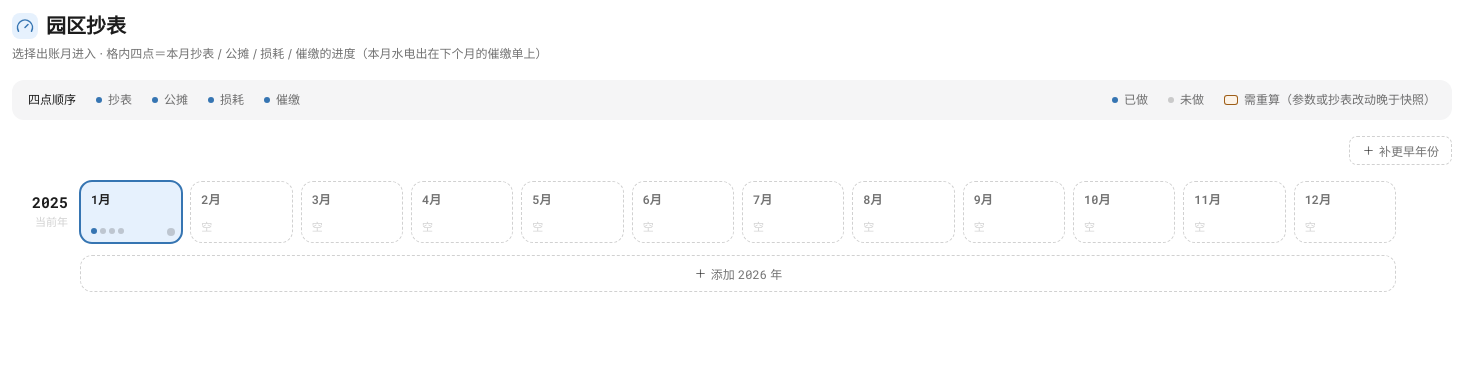
出账月矩阵 › 手工年记在本机，键按屏分组 —— 五屏共用同一份，加一次五屏都看得见
Click the button with class "bmm-addy". click: (1400, 150)
box: top-left (1349, 136), bottom-right (1452, 165)
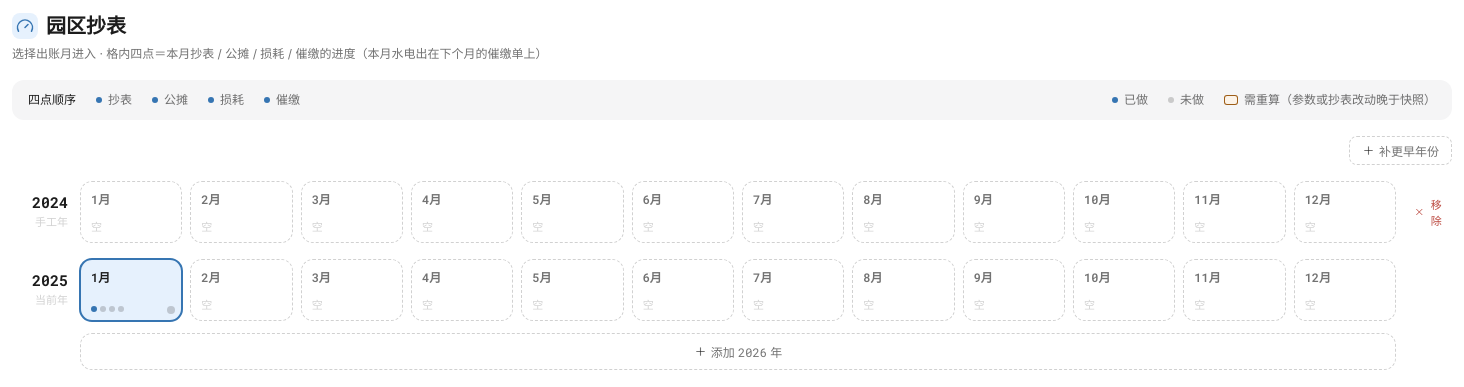
Check: the elements with class "bmm-y" read "2024", "2025", in this order, box top-left (32, 192), bottom-right (68, 212); top-left (32, 270), bottom-right (68, 290)
